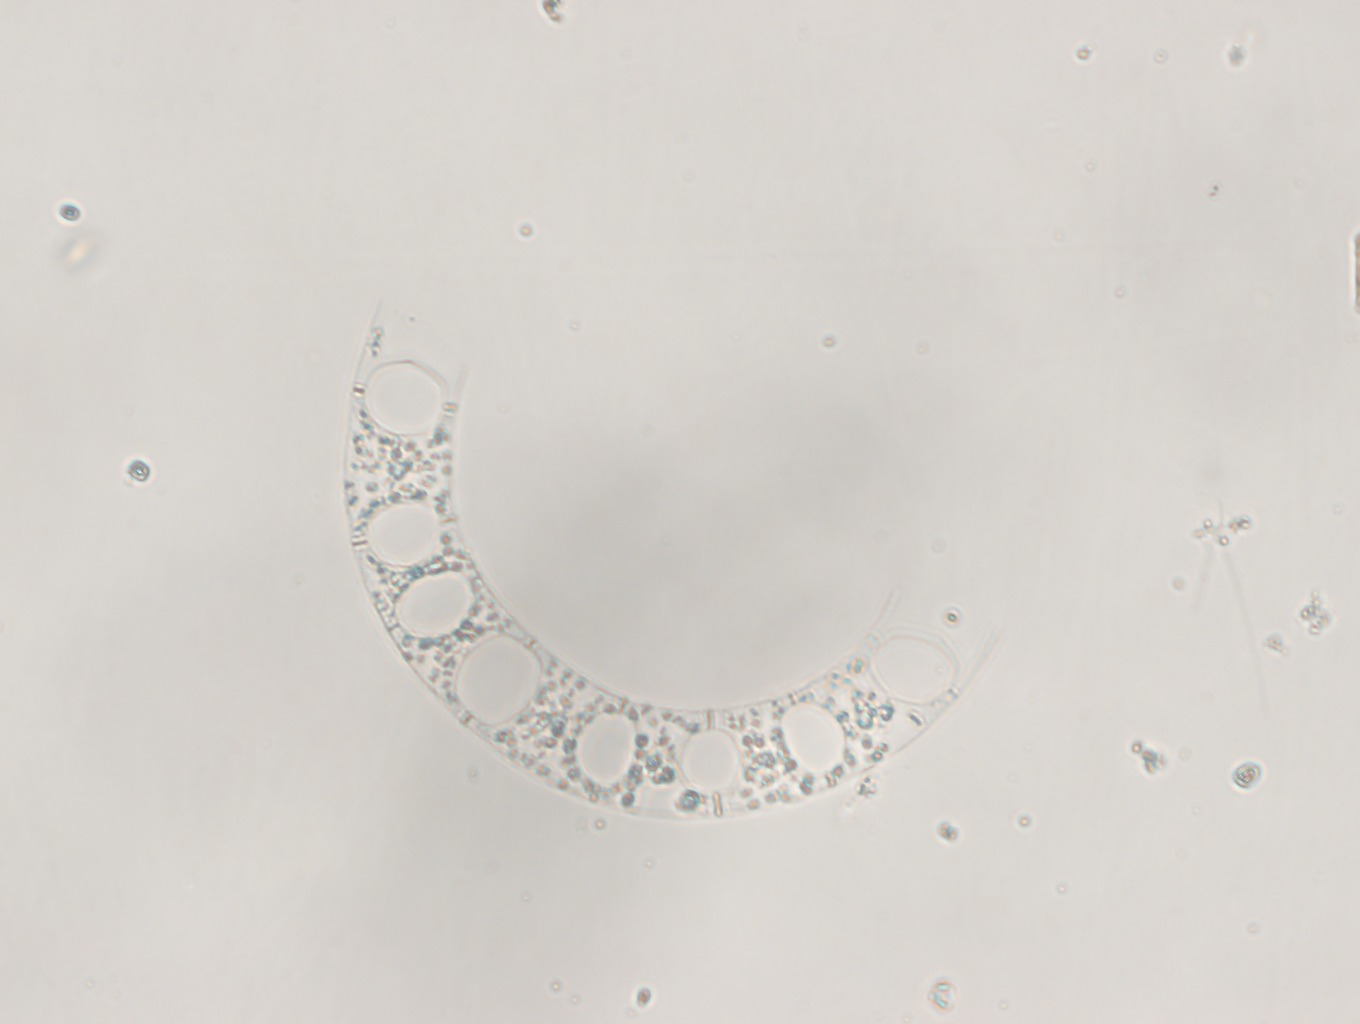eucampia: (337, 294, 1008, 831)
